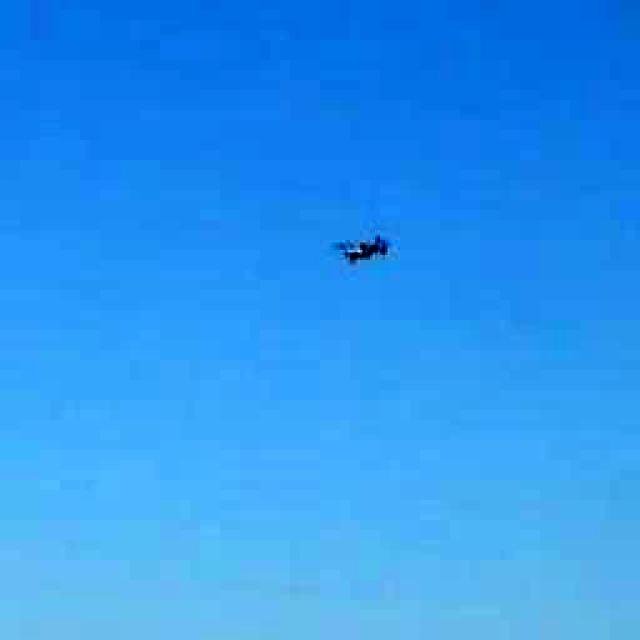bird: (311, 214, 411, 279)
